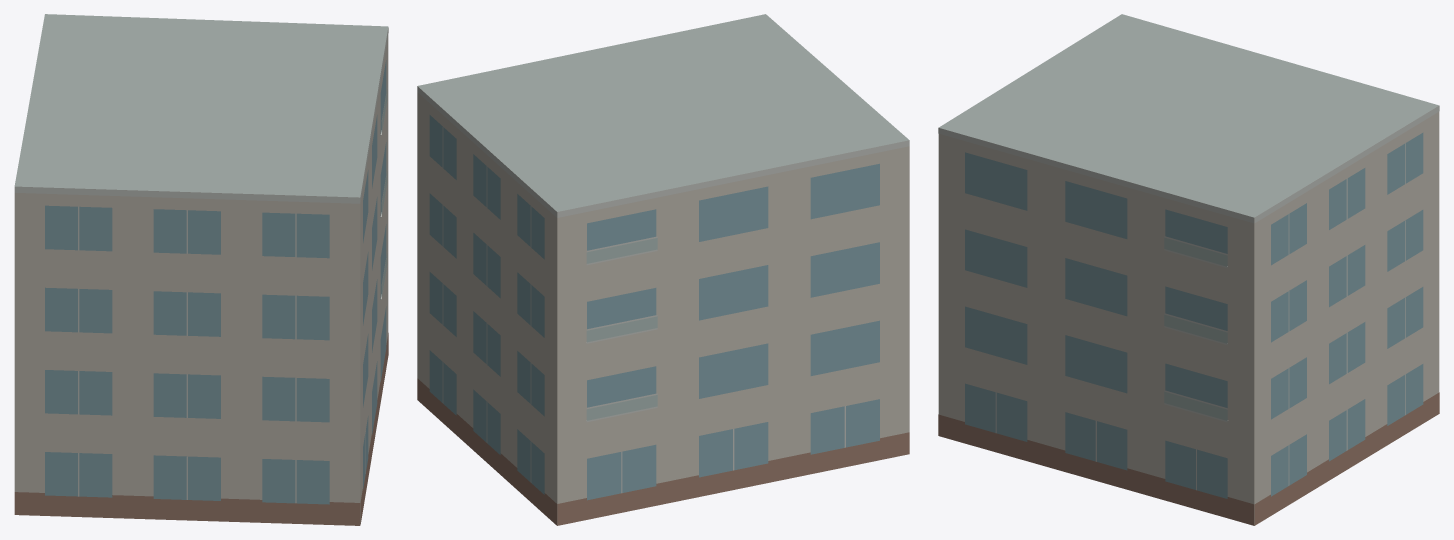
The model's file is survey-upis-32687322.glb.
3 views of the same model, side by side, from view 1: azimuth 30°, elevation 25°; view 2: azimuth 150°, elevation 25°; view 3: azimuth 270°, elevation 25° (orthographic). The views are drawn at different scales.
Parts seen in each view (by area): view 1: survey-upis-32687322.tmp; view 2: survey-upis-32687322.tmp; view 3: survey-upis-32687322.tmp.
Part boxes in pixels (x1=…): survey-upis-32687322.tmp: x1=14, y1=14, x2=388, y2=525; survey-upis-32687322.tmp: x1=417, y1=14, x2=909, y2=525; survey-upis-32687322.tmp: x1=938, y1=14, x2=1439, y2=525.
Size of the model in its own units: 18.14 by 12.8 by 18.86.
